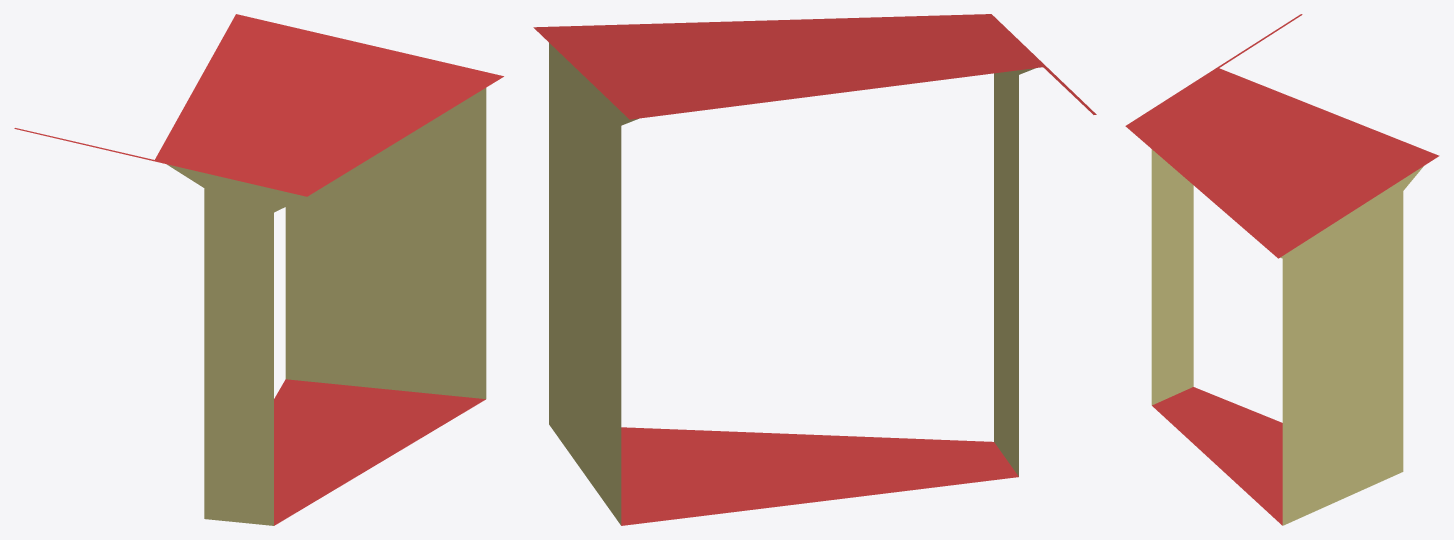
The picture shows the model from 3 angles, left to right: view 1: azimuth 30°, elevation 25°; view 2: azimuth 150°, elevation 25°; view 3: azimuth 270°, elevation 25°; orthographic projection. The views are drawn at different scales.
Bounding box in the file's own units: 15.86 × 10.61 × 11.92.
